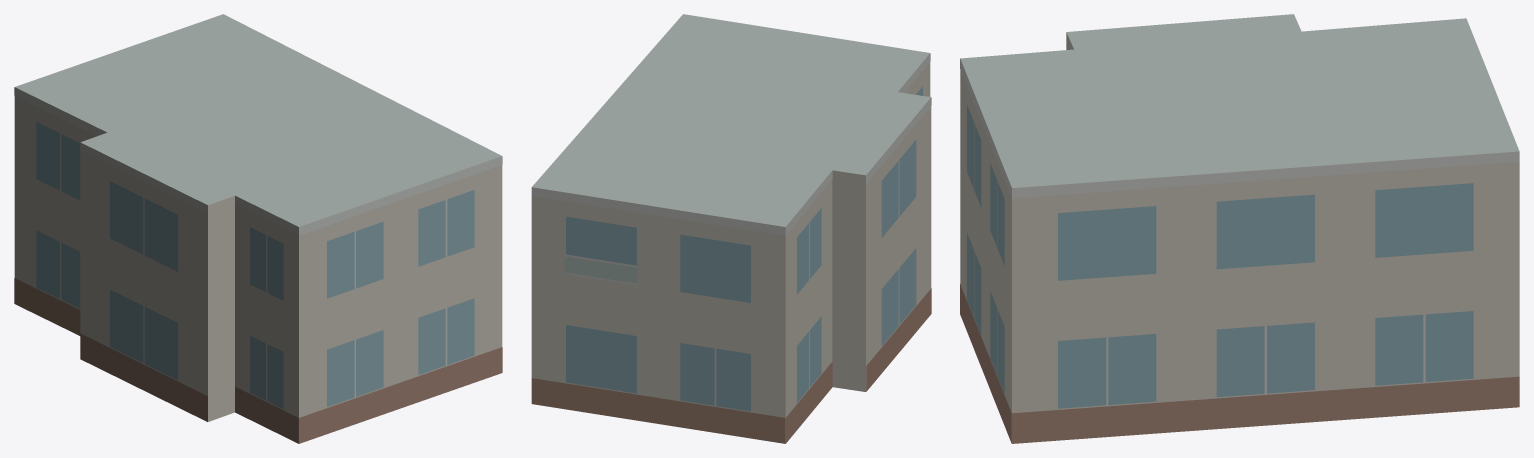
Rendered from survey-upis-32606812.glb.
3 renders of one model, left to right at view 1: azimuth 30°, elevation 25°; view 2: azimuth 150°, elevation 25°; view 3: azimuth 270°, elevation 25°, orthographic. The views are drawn at different scales.
Visible parts, largest first — view 1: survey-upis-32606812.tmp; view 2: survey-upis-32606812.tmp; view 3: survey-upis-32606812.tmp.
Boxes of the visible parts, x1,y1,x2,y2 form: survey-upis-32606812.tmp: (14,14,502,443); survey-upis-32606812.tmp: (531,14,931,443); survey-upis-32606812.tmp: (960,14,1519,443).
Size of the model in its own units: 8.92 by 6.1 by 12.11.
